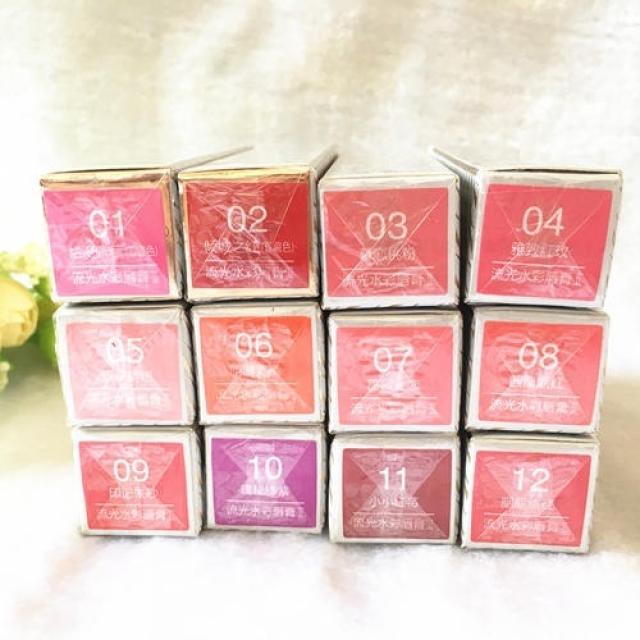box: (38, 146, 252, 303), (431, 143, 623, 308), (178, 143, 338, 302), (317, 151, 458, 310), (462, 305, 612, 433), (51, 298, 198, 428), (188, 294, 325, 424), (458, 431, 602, 554), (328, 307, 463, 435), (70, 425, 207, 539), (328, 434, 462, 544), (205, 422, 329, 534)
